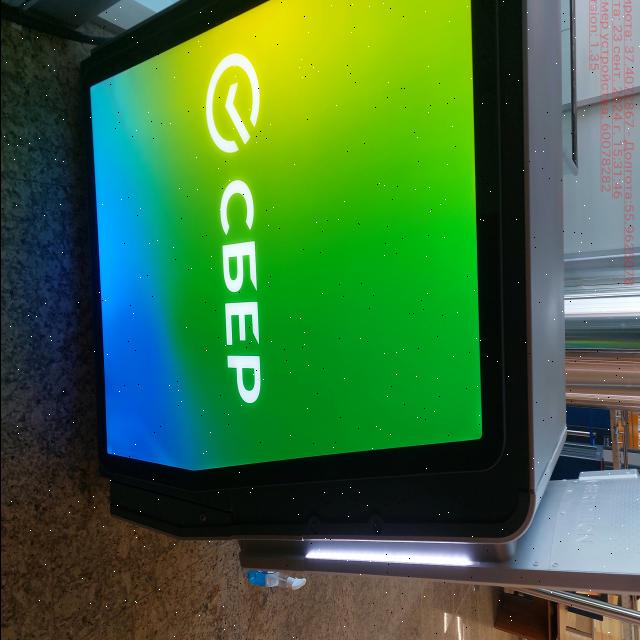bank: (82, 0, 640, 587)
